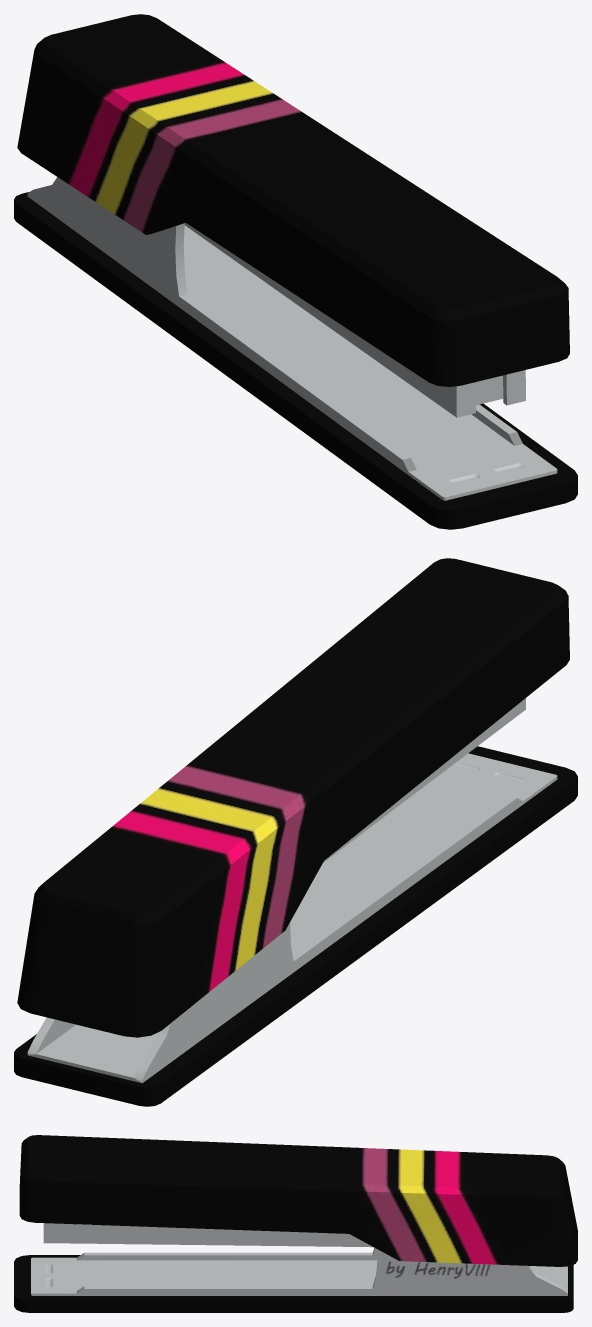
Rendered from stapler.glb.
The picture shows the model from 3 angles, top to bottom: view 1: azimuth 30°, elevation 25°; view 2: azimuth 150°, elevation 25°; view 3: azimuth 270°, elevation 25°; orthographic projection. The views are drawn at different scales.
Parts seen in each view (by area): view 1: polySurface9, part:part1:polySurface1, polySurface7, part:polySurface3; view 2: polySurface9, part:part1:polySurface1, polySurface7, part:polySurface3; view 3: polySurface9, part:part1:polySurface1, polySurface7, part:polySurface3.
Part boxes in pixels (x1,y1,x2,y2): polySurface9: (17,14,569,386); part:part1:polySurface1: (27,177,557,500); polySurface7: (14,192,577,529); part:polySurface3: (184,223,525,417); polySurface9: (17,558,569,1037); part:part1:polySurface1: (27,753,557,1083); polySurface7: (14,746,577,1106); part:polySurface3: (323,698,525,862); polySurface9: (19,1135,577,1266); part:part1:polySurface1: (31,1247,567,1295); polySurface7: (14,1255,573,1312); part:polySurface3: (43,1223,373,1247).
Bounding box in the file's own units: 0.3827 × 0.5329 × 2.
1 material, 1 textured.
